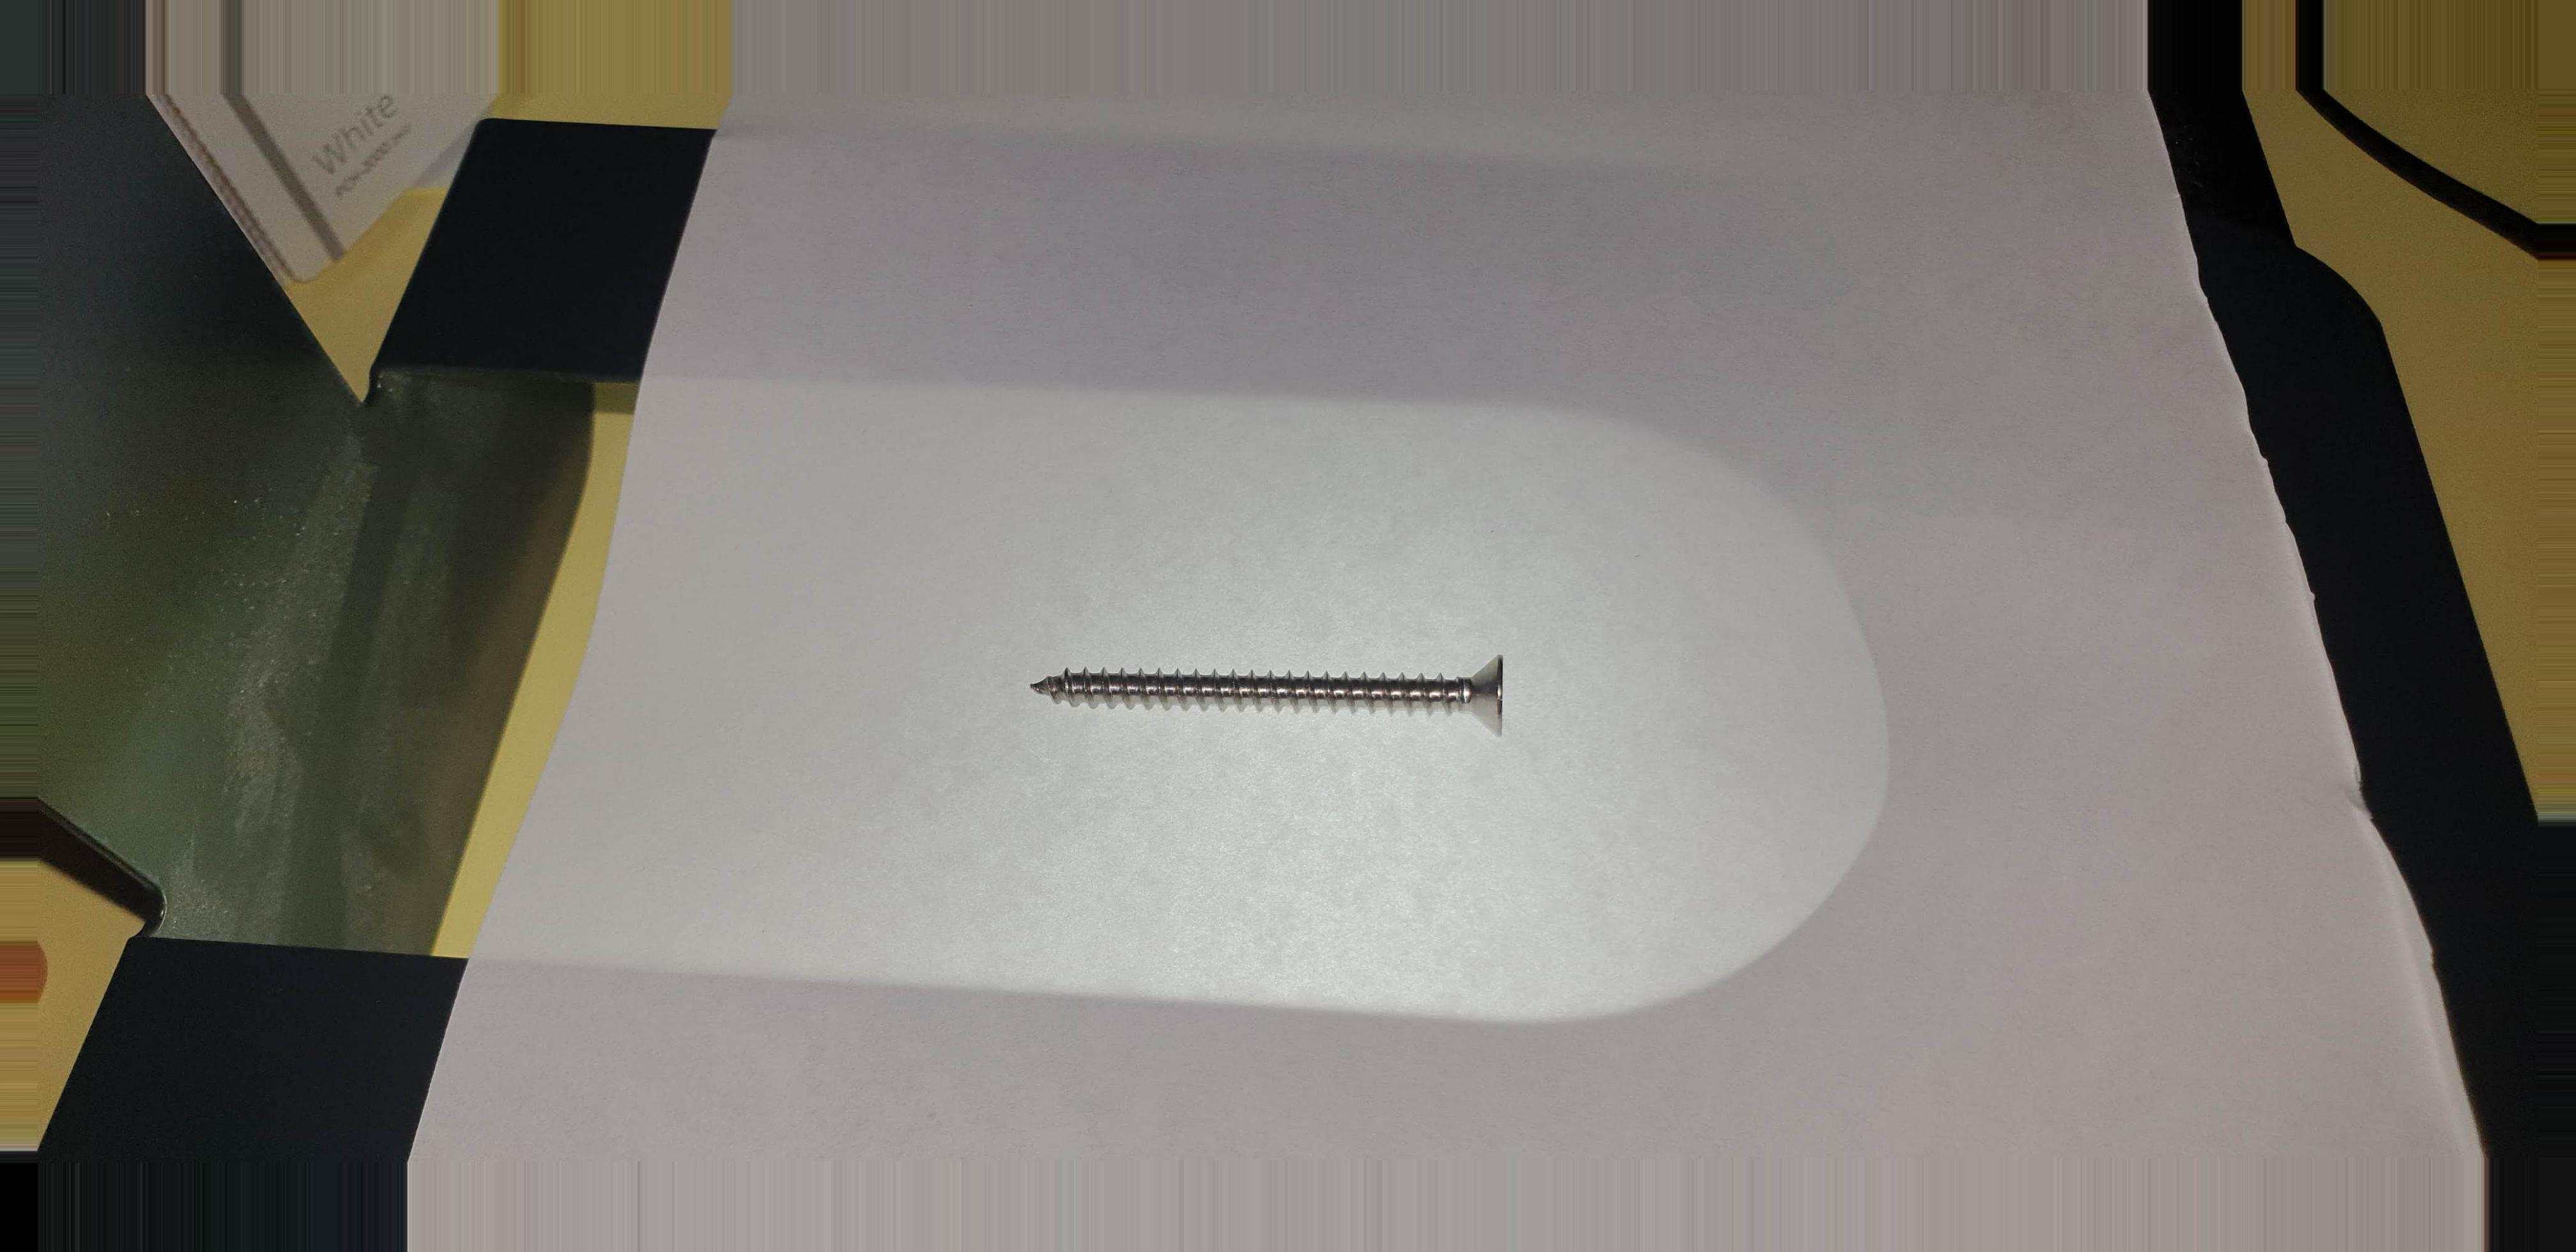fastener: (1012, 605, 1551, 754)
